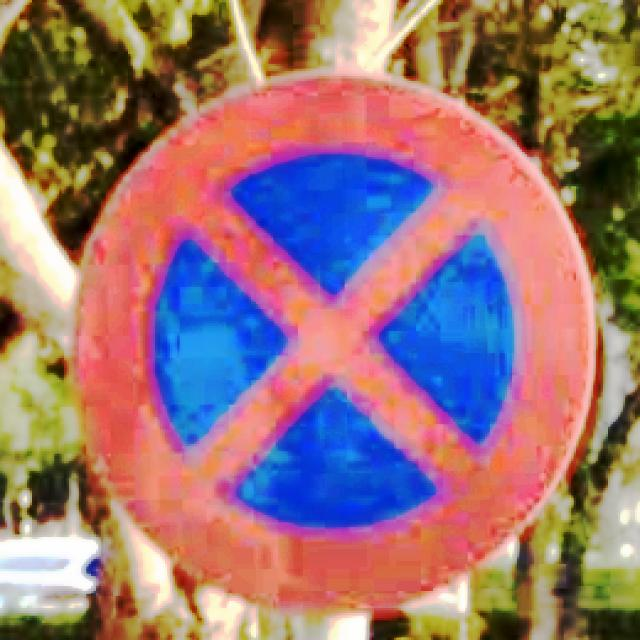nopark: (69, 69, 601, 618)
